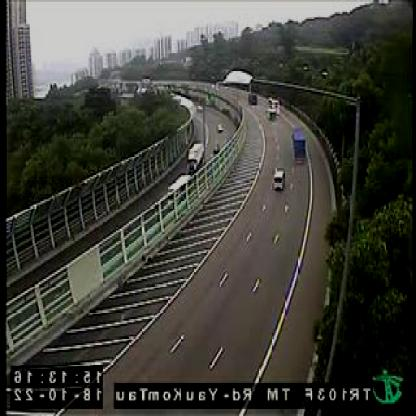Car: (272, 170, 286, 192), (214, 122, 224, 132)
Truck: (186, 141, 206, 174), (291, 129, 308, 162), (265, 98, 280, 122)
